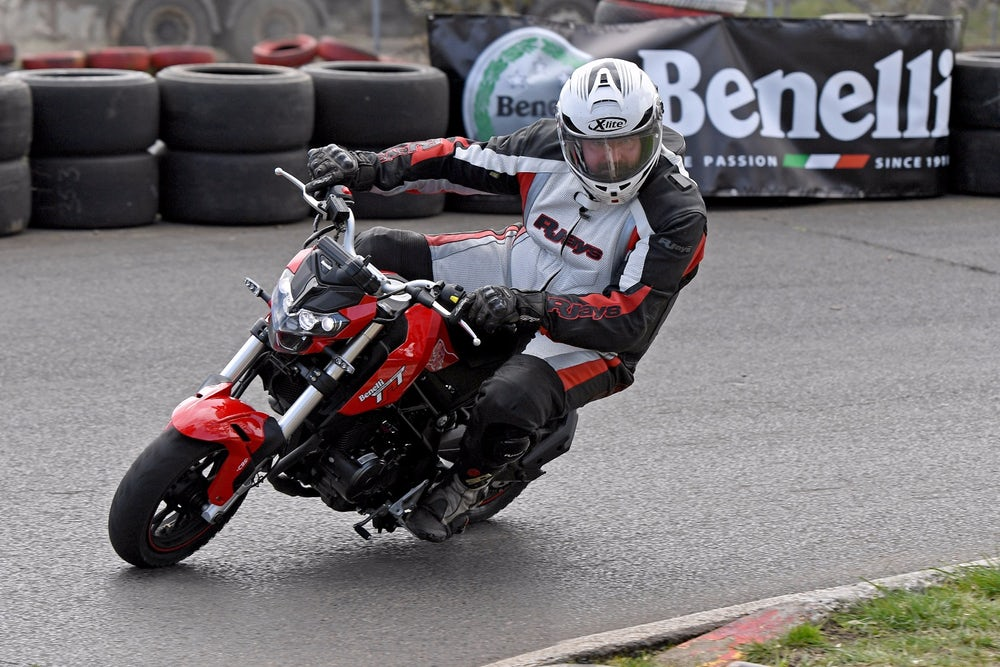helmet: (394, 34, 684, 437)
